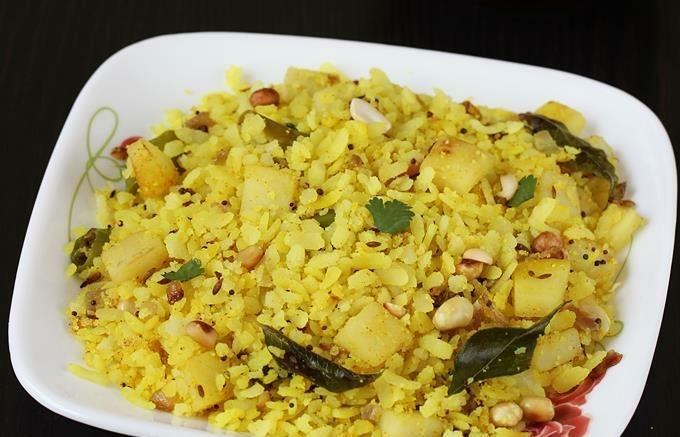Poha: (70, 62, 631, 437)
